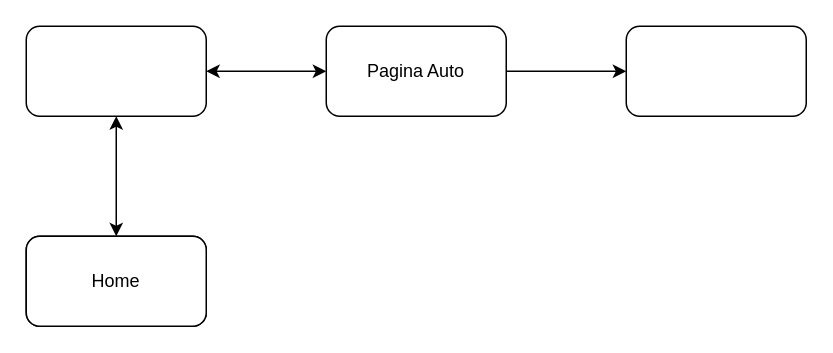
The diagram is 833 pixels wide and 353 high, and some of its shapes have lost their labels. Here are the shapes that lost their labels. From the top down, the box of each, then its label:
(25, 25, 206, 116): Ricerca Auto
(625, 25, 806, 116): Eliminazione dell'auto
